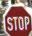Stop sign: (0, 0, 31, 35)
